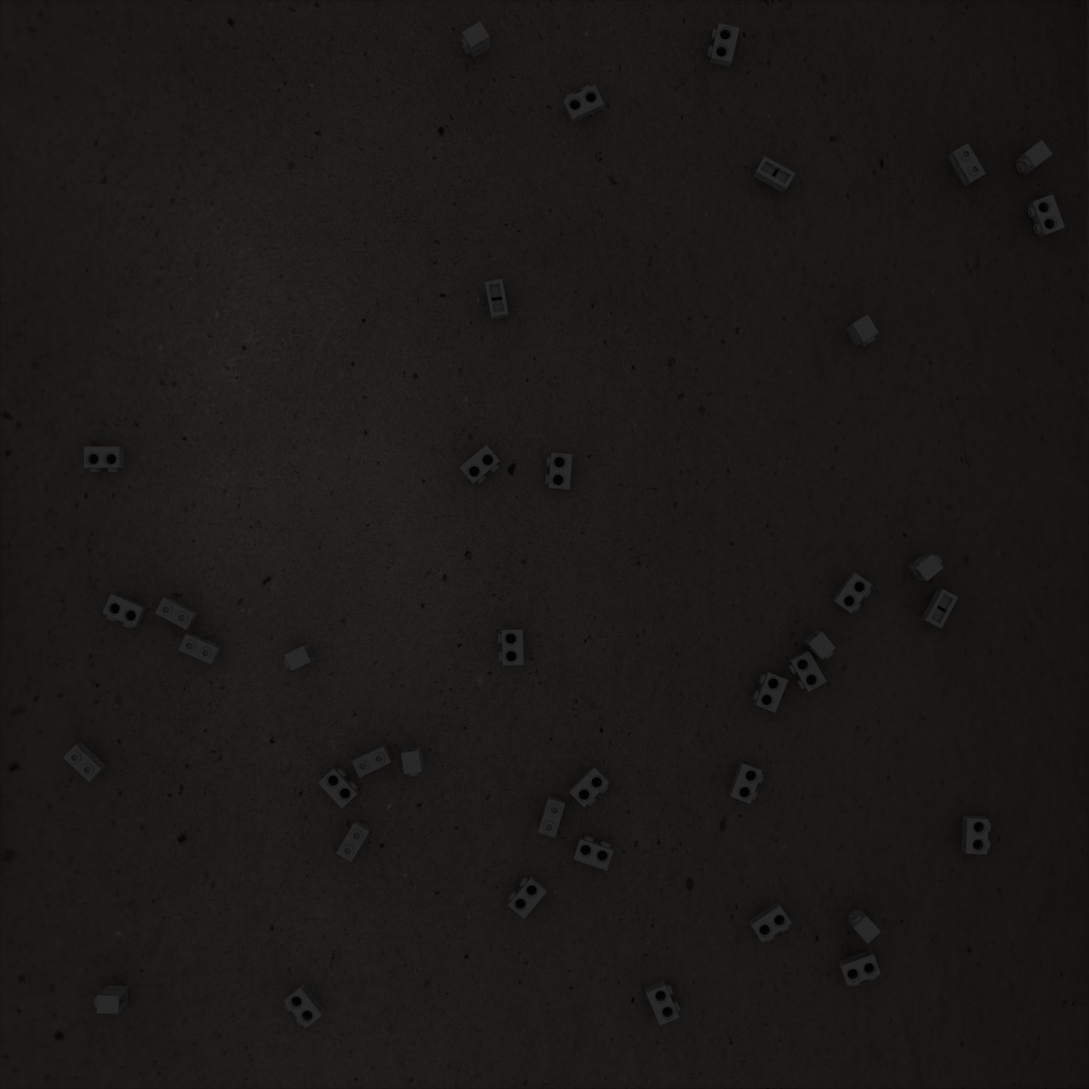lego: (284, 983, 325, 1029), (749, 902, 792, 943), (318, 766, 359, 809), (63, 742, 107, 782), (831, 572, 872, 614), (569, 765, 609, 808), (947, 143, 986, 187), (508, 875, 547, 919), (459, 445, 501, 485), (1027, 194, 1065, 238), (645, 980, 681, 1026), (102, 593, 148, 629), (788, 650, 827, 692), (563, 85, 604, 124), (753, 156, 796, 193), (837, 950, 881, 986), (336, 819, 372, 862), (728, 761, 764, 804), (921, 588, 958, 629), (752, 671, 788, 713), (707, 23, 740, 68), (573, 835, 614, 871), (155, 597, 199, 630), (352, 744, 393, 778), (1014, 140, 1053, 175), (178, 633, 222, 664), (846, 908, 881, 944), (961, 815, 991, 854), (538, 795, 565, 838), (461, 21, 491, 59), (846, 314, 879, 347), (84, 447, 124, 472), (545, 453, 572, 490), (94, 985, 128, 1014), (802, 630, 836, 659), (485, 279, 509, 320), (908, 554, 944, 581), (498, 629, 524, 665), (283, 644, 316, 671), (401, 746, 424, 777)
